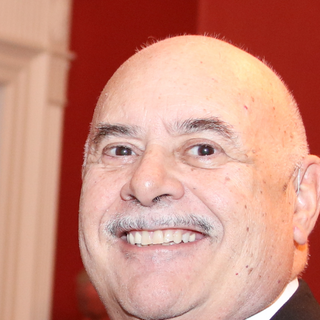eye: (99, 142, 143, 162), (178, 142, 223, 161)
